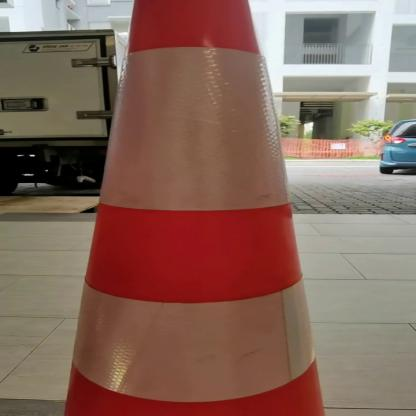cone: (44, 0, 342, 416)
